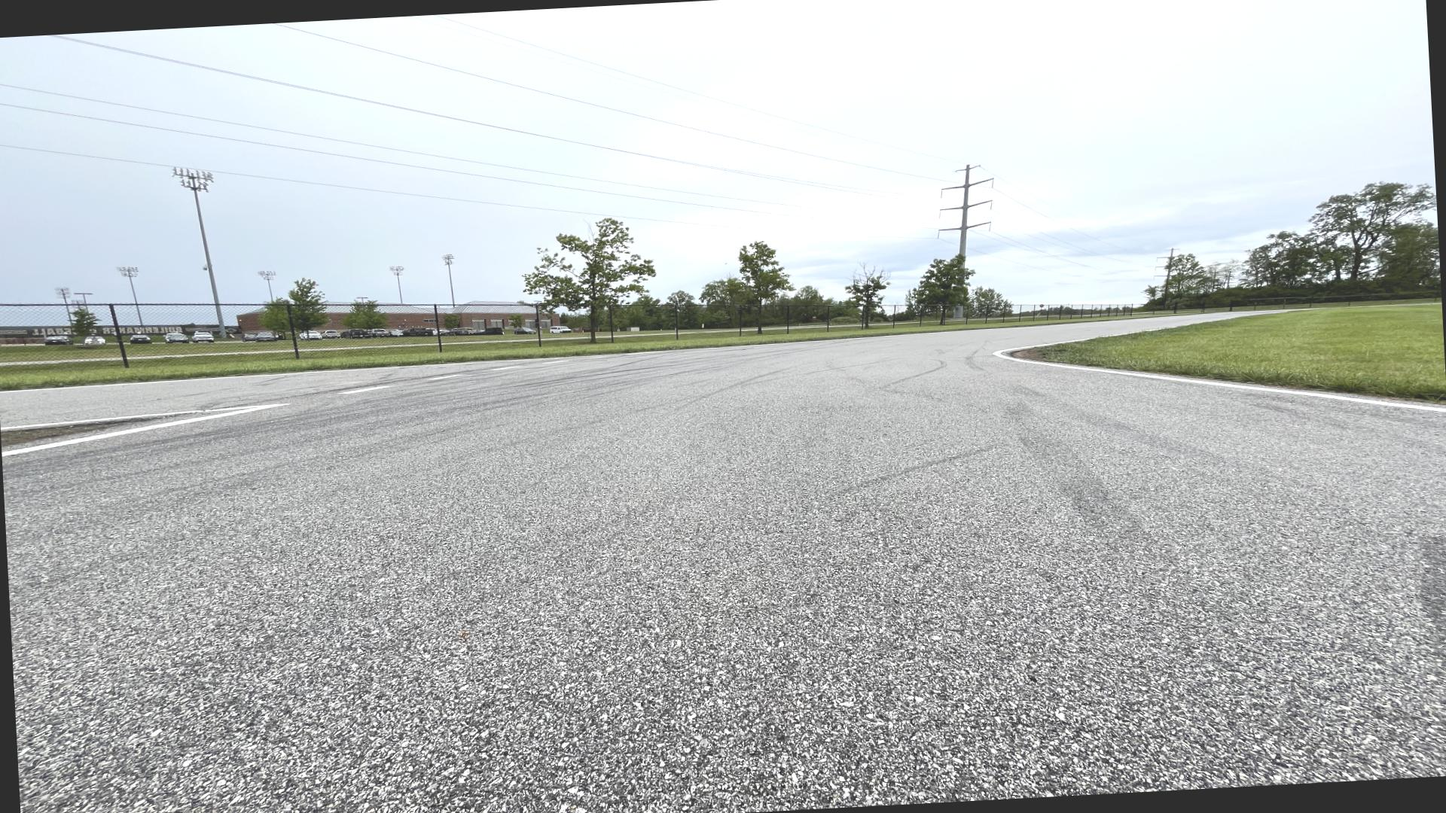white-line: (0, 329, 981, 392), (992, 327, 1445, 413), (1, 404, 289, 458), (337, 386, 391, 394), (426, 376, 462, 380), (491, 367, 518, 370), (542, 361, 564, 364)
